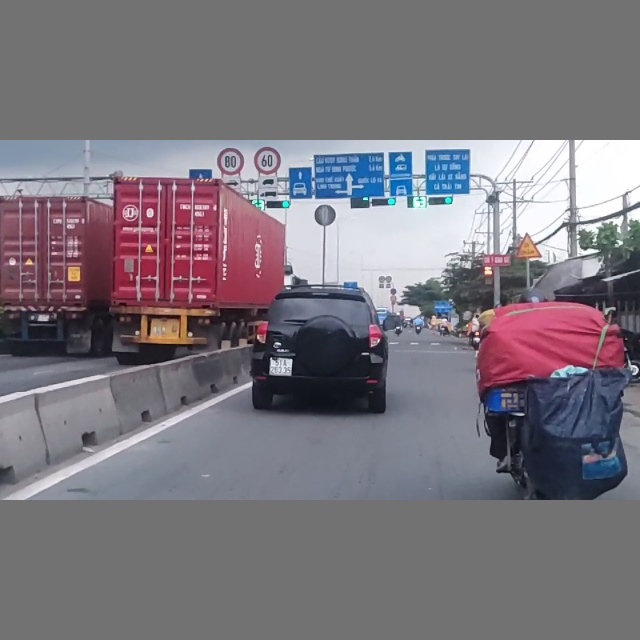P.127*60: (254, 147, 281, 175)
P.127*80: (217, 148, 245, 175)
W.245a: (513, 232, 542, 259)
